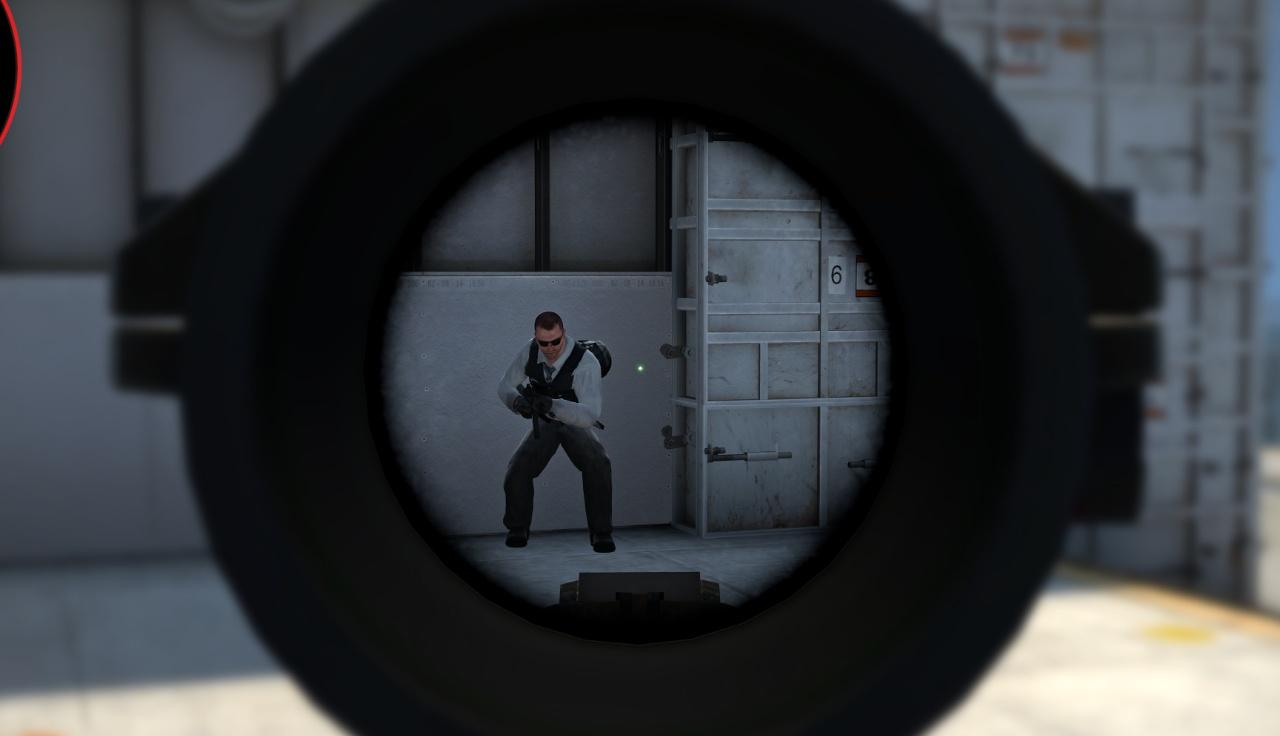tt: (489, 308, 618, 557)
tthead: (533, 312, 566, 357)
